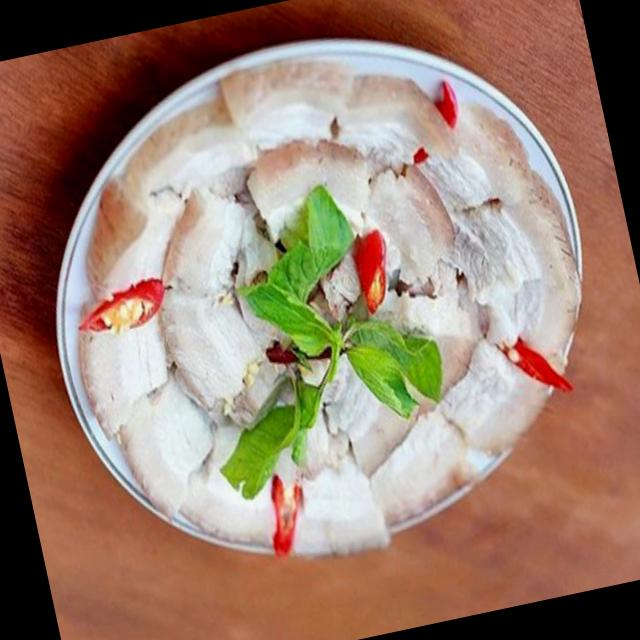ot: (79, 279, 169, 333), (499, 338, 573, 393), (354, 229, 387, 315), (271, 475, 304, 558), (435, 80, 459, 130), (413, 147, 429, 165)
rau ngo: (221, 187, 443, 499)
thit luoc: (75, 55, 580, 550)
